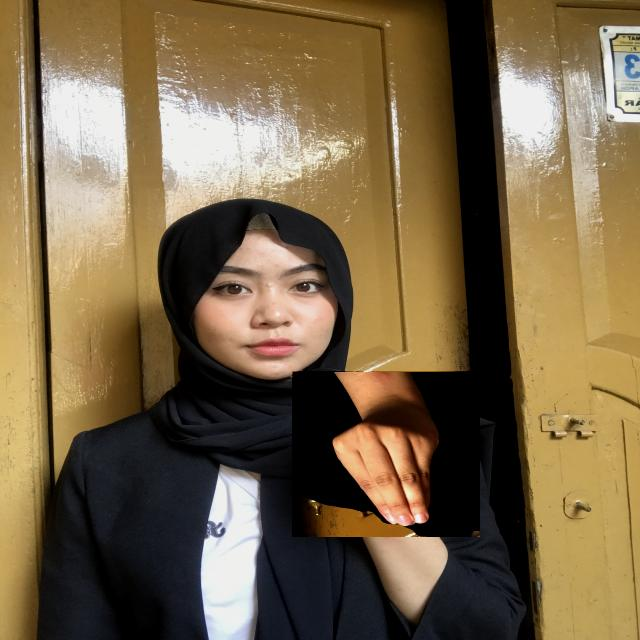kapan: (292, 371, 480, 537)
